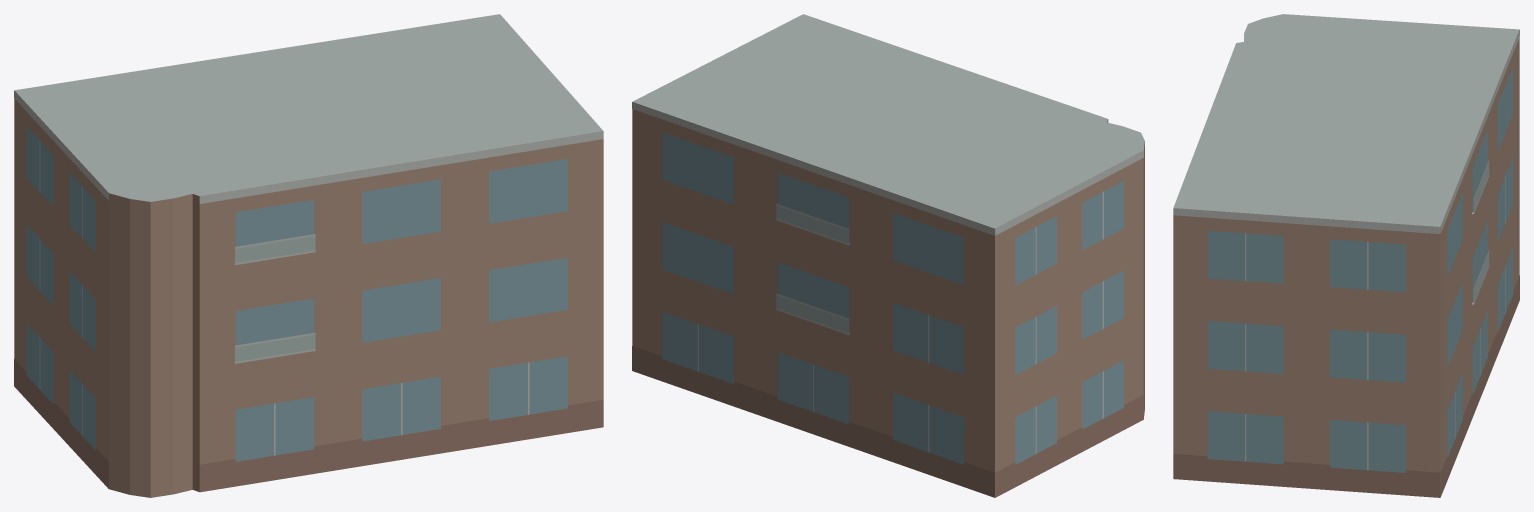
The model's file is survey-upis-32910245.glb.
3 renders of one model, left to right at view 1: azimuth 30°, elevation 25°; view 2: azimuth 150°, elevation 25°; view 3: azimuth 270°, elevation 25°, orthographic. The views are drawn at different scales.
Visible parts, largest first — view 1: survey-upis-32910245.tmp; view 2: survey-upis-32910245.tmp; view 3: survey-upis-32910245.tmp.
Boxes of the visible parts, left/top/right/bottom form: survey-upis-32910245.tmp: left=14, top=14, right=603, bottom=497; survey-upis-32910245.tmp: left=632, top=14, right=1144, bottom=497; survey-upis-32910245.tmp: left=1173, top=14, right=1519, bottom=497.
Size of the model in its own units: 15.44 by 9.15 by 10.62.
